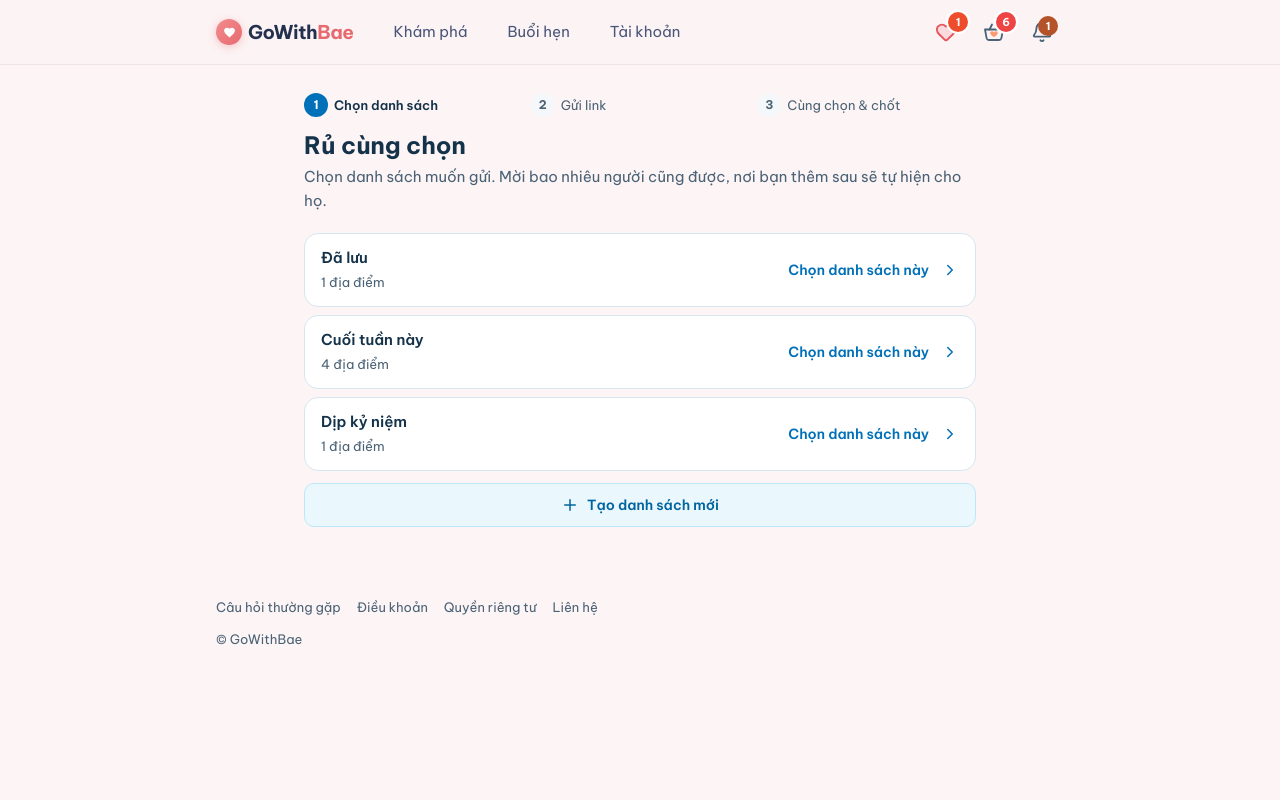
it: Lối vào Cùng chọn › trang tạo lời mời chưa chọn danh sách thì cho chọn ngay hoặc tạo danh sách mới
This screenshot has width=1280, height=800.
Expected: the heading "Rủ cùng chọn" is shown, [304,130,466,160]
Expected: the button "Tạo danh sách mới" is shown, [304,483,976,527]
Click the link "Cuối tuần này 4 địa điểm Chọn danh sách này" at (372, 340), box [304,315,976,389]
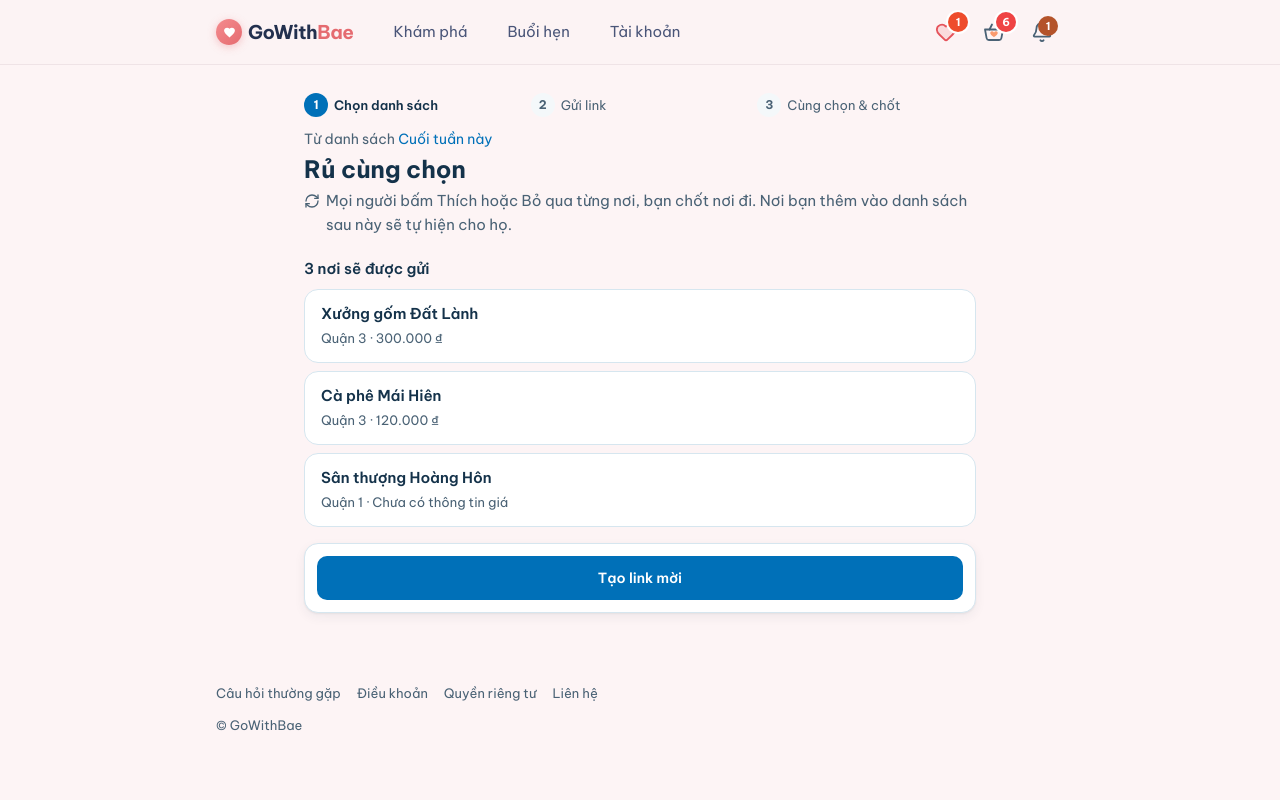
Expected: the button "Tạo link mời" is shown, [317,556,963,600]
